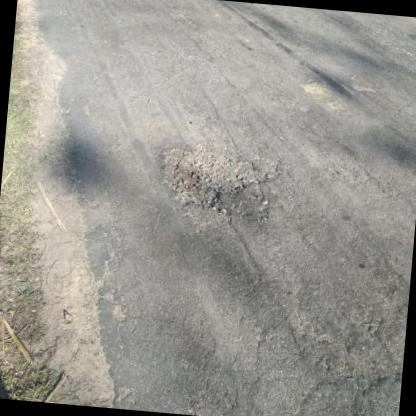pothole: (152, 140, 281, 216)
